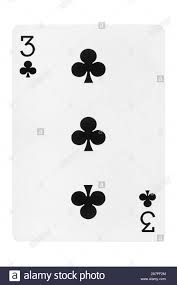three of clubs: (11, 27, 166, 241)
